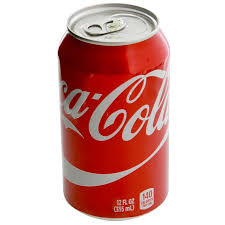coke: (58, 76, 181, 144)
